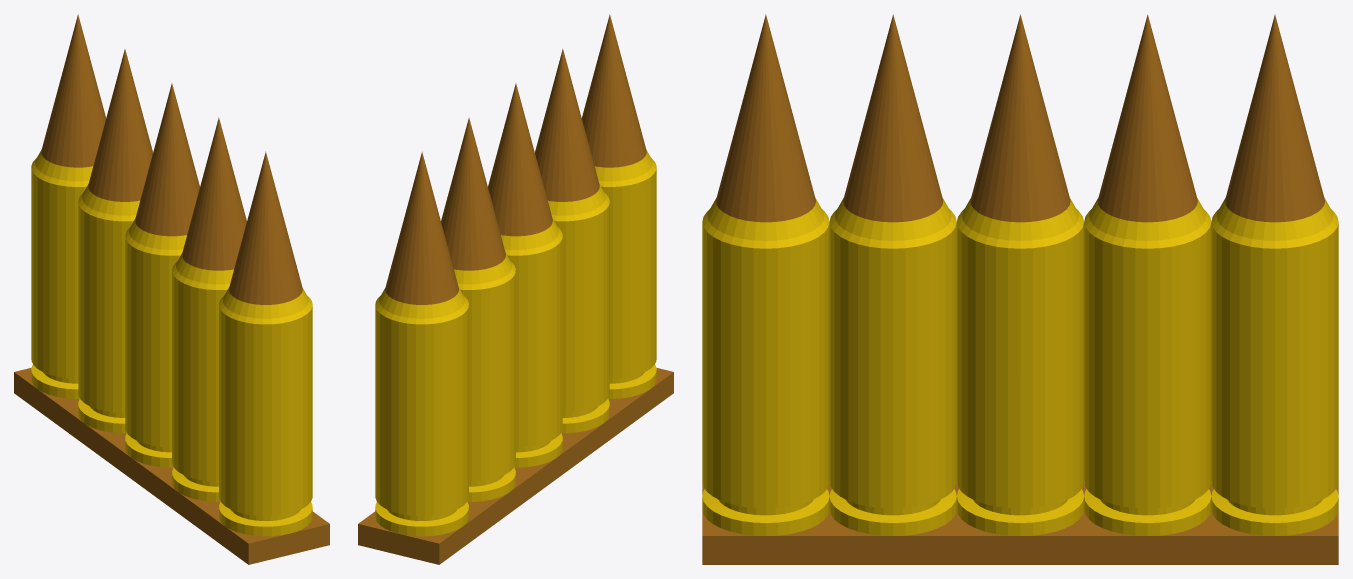
Rendered from Clip.fbx.
3 renders of one model, left to right at view 1: azimuth 30°, elevation 25°; view 2: azimuth 150°, elevation 25°; view 3: azimuth 270°, elevation 25°, orthographic. The views are drawn at different scales.
Visible parts, largest first — view 1: Bullet; view 2: Bullet; view 3: Bullet.
Boxes of the visible parts, bbox=[...] form: Bullet: bbox=[14, 14, 329, 564]; Bullet: bbox=[358, 14, 673, 564]; Bullet: bbox=[702, 14, 1338, 564].
Size of the model in its own units: 200 by 909 by 1000.
